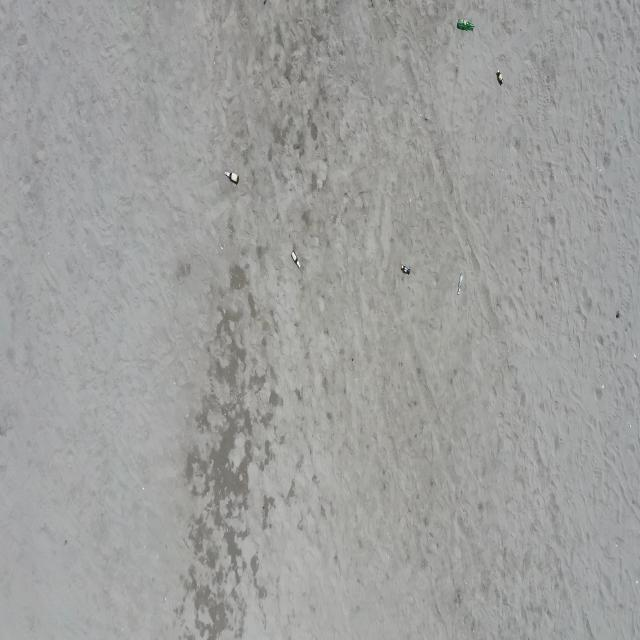glass: (457, 18, 475, 30), (224, 170, 239, 184), (291, 250, 301, 270), (457, 272, 464, 295), (497, 68, 504, 86), (401, 264, 411, 276)
